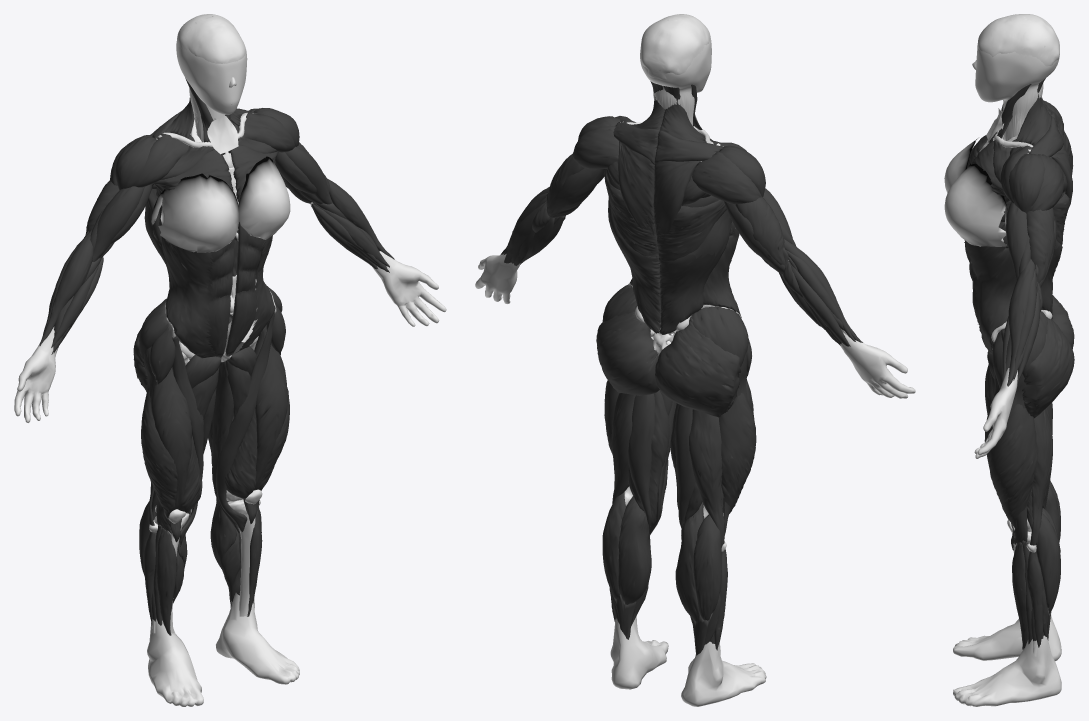
File: corpo-f-12.glb
3 views of the same model, side by side, from view 1: azimuth 30°, elevation 25°; view 2: azimuth 150°, elevation 25°; view 3: azimuth 270°, elevation 25° (orthographic).
Visible parts, largest first — view 1: pele, deco, mama, quad_reto_femoral, obliquos, adutores, antebraco_flexores, cabeca, quad_vasto_lateral, ombro_frontal, antebraco_braquiorradial, biceps_longa (+16 smaller); view 2: gluteo_maximo, pele, panturrilha_gastro, isquio_semitendineo, dorsal_inferior, isquio_biceps_femoral, dorsal_superior, trapezio_inferior, antebraco_extensores, ombro_posterior, quad_vasto_lateral, osso (+13 smaller); view 3: pele, mama, deco, quad_vasto_lateral, cabeca, gluteo_maximo, obliquos, osso, panturrilha_gastro, isquio_biceps_femoral, ombro_lateral, triceps_lateral (+22 smaller).
Part boxes in pixels (x1=…): pele: x1=14, y1=251, x2=446, y2=706; deco: x1=143, y1=78, x2=274, y2=635; mama: x1=151, y1=156, x2=290, y2=252; quad_reto_femoral: x1=151, y1=325, x2=287, y2=542; obliquos: x1=161, y1=235, x2=275, y2=358; adutores: x1=180, y1=342, x2=256, y2=546; antebraco_flexores: x1=51, y1=202, x2=389, y2=354; cabeca: x1=176, y1=47, x2=247, y2=142; quad_vasto_lateral: x1=141, y1=387, x2=289, y2=532; ombro_frontal: x1=133, y1=112, x2=294, y2=187; antebraco_braquiorradial: x1=39, y1=178, x2=394, y2=345; biceps_longa: x1=92, y1=146, x2=332, y2=261; gluteo_maximo: x1=596, y1=305, x2=741, y2=417; pele: x1=475, y1=254, x2=915, y2=706; panturrilha_gastro: x1=602, y1=492, x2=721, y2=621; isquio_semitendineo: x1=628, y1=390, x2=702, y2=530; dorsal_inferior: x1=612, y1=229, x2=725, y2=334; isquio_biceps_femoral: x1=611, y1=393, x2=724, y2=546; dorsal_superior: x1=604, y1=169, x2=731, y2=258; trapezio_inferior: x1=618, y1=141, x2=700, y2=247; antebraco_extensores: x1=503, y1=192, x2=855, y2=346; ombro_posterior: x1=572, y1=125, x2=761, y2=204; quad_vasto_lateral: x1=604, y1=380, x2=756, y2=513; osso: x1=640, y1=14, x2=710, y2=80; pele: x1=953, y1=368, x2=1061, y2=706; mama: x1=944, y1=138, x2=1007, y2=246; deco: x1=988, y1=84, x2=1051, y2=649; quad_vasto_lateral: x1=989, y1=404, x2=1037, y2=542; cabeca: x1=975, y1=43, x2=1057, y2=147; gluteo_maximo: x1=1022, y1=295, x2=1074, y2=418; obliquos: x1=964, y1=222, x2=1016, y2=354; osso: x1=972, y1=14, x2=1059, y2=69; panturrilha_gastro: x1=1036, y1=480, x2=1060, y2=613; isquio_biceps_femoral: x1=1027, y1=402, x2=1052, y2=546; ombro_lateral: x1=1009, y1=153, x2=1045, y2=212; triceps_lateral: x1=1026, y1=207, x2=1054, y2=283.
Bounding box in the file's own units: 1.14 × 1.65 × 0.295.
Materials: 1 (1 with a texture image).
